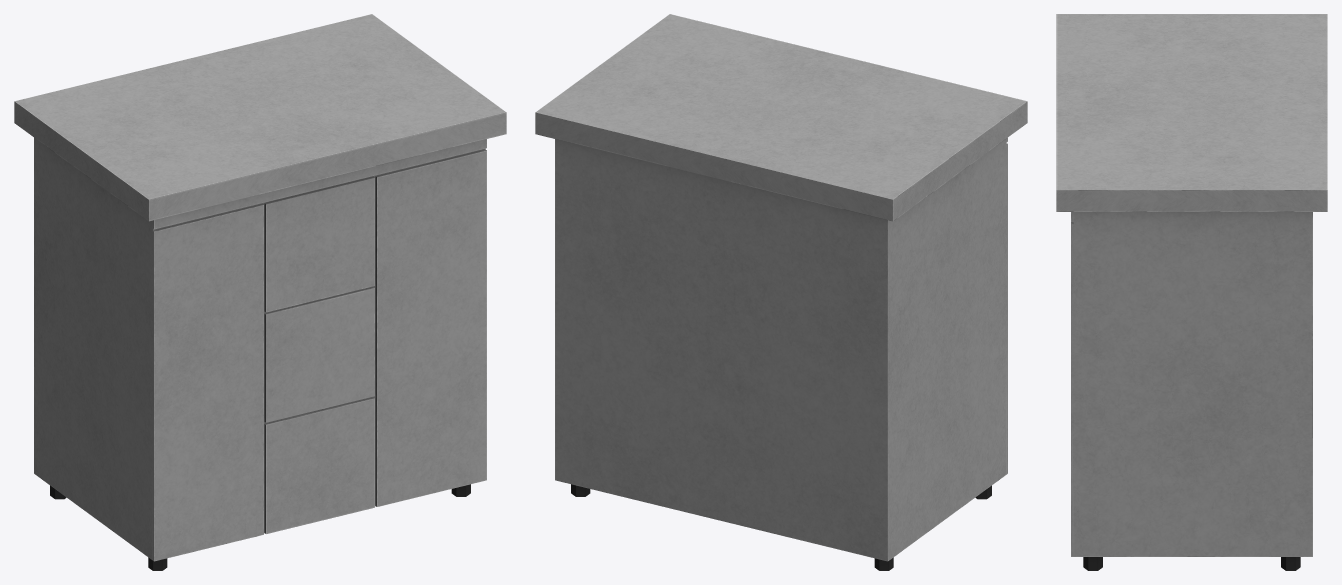
File: tumba.fbx
3 views of the same model, side by side, from view 1: azimuth 30°, elevation 25°; view 2: azimuth 150°, elevation 25°; view 3: azimuth 270°, elevation 25° (orthographic).
Visible parts, largest first — view 1: Cube; view 2: Cube; view 3: Cube.
Boxes of the visible parts, bbox=[...] form: Cube: bbox=[14, 14, 506, 570]; Cube: bbox=[535, 14, 1027, 570]; Cube: bbox=[1056, 14, 1327, 570].
Bounding box in the file's own units: 85.97 × 89.02 × 55.97.
1 material, 1 textured.
